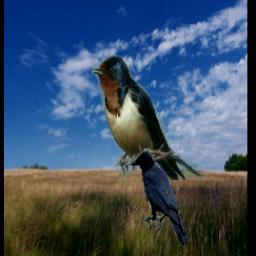Crow: (129, 150, 188, 246)
Swallow: (91, 54, 202, 180)
